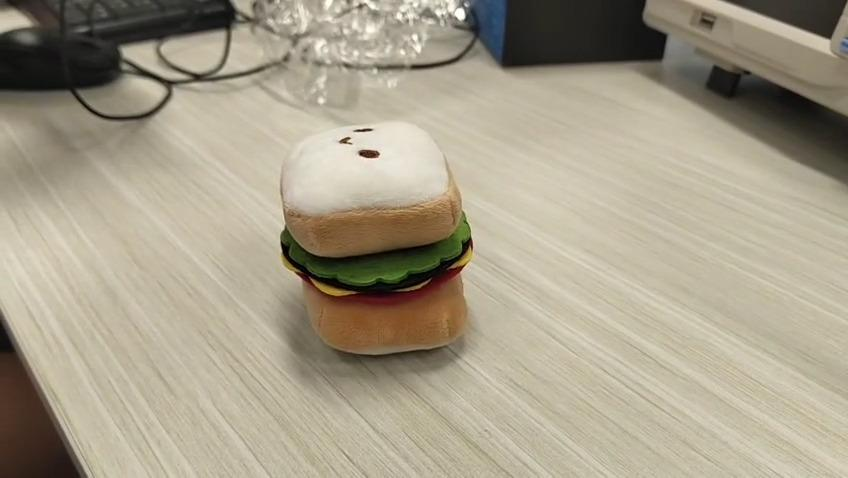objects: (278, 118, 475, 352)
